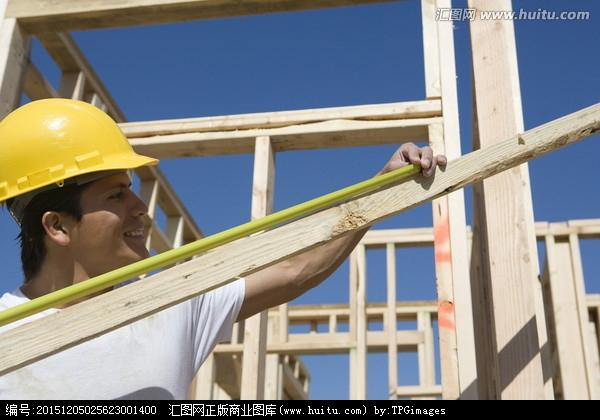helmet: (0, 87, 167, 215)
no_wear: (1, 285, 237, 400)
